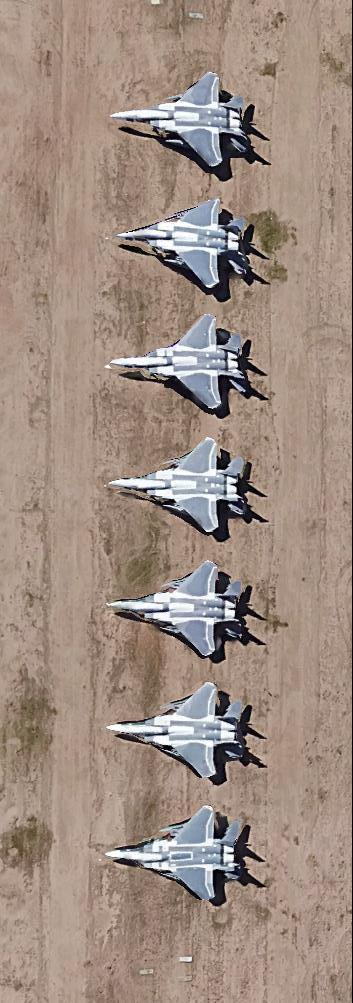F-15: (108, 62, 261, 172), (101, 680, 258, 782), (101, 803, 254, 905), (104, 556, 255, 659), (107, 434, 259, 531), (107, 317, 260, 412), (111, 197, 258, 291)
